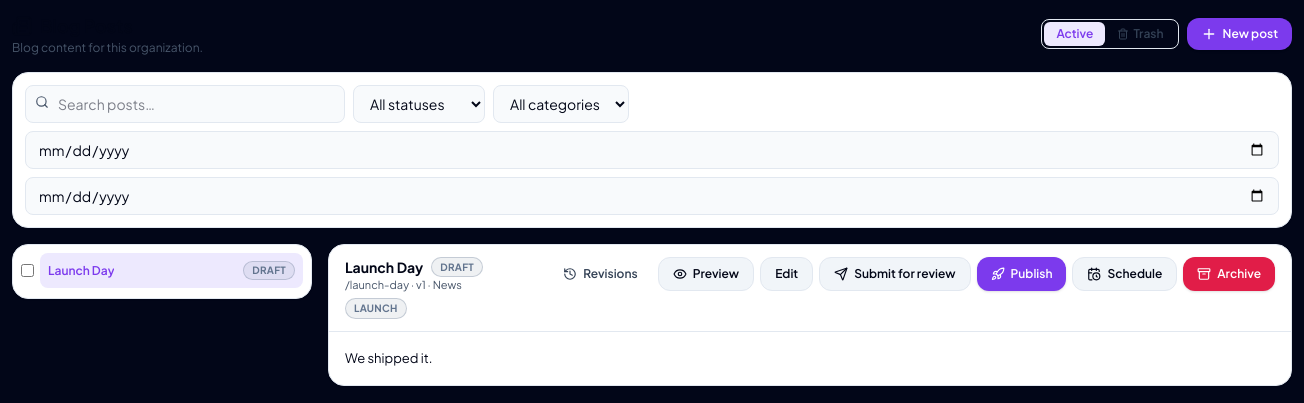
Scenario: PostsPage › Phase 7 — Trash view, bulk actions › switches to the Trash tab, calling the real trash API instead of the active list
The width and height of the screenshot is (1304, 403).
Check: the text "We shipped it." is shown, box top-left (345, 350), bottom-right (432, 366)
Click the button "Trash". click: (1140, 34)
box: top-left (1105, 22), bottom-right (1176, 46)
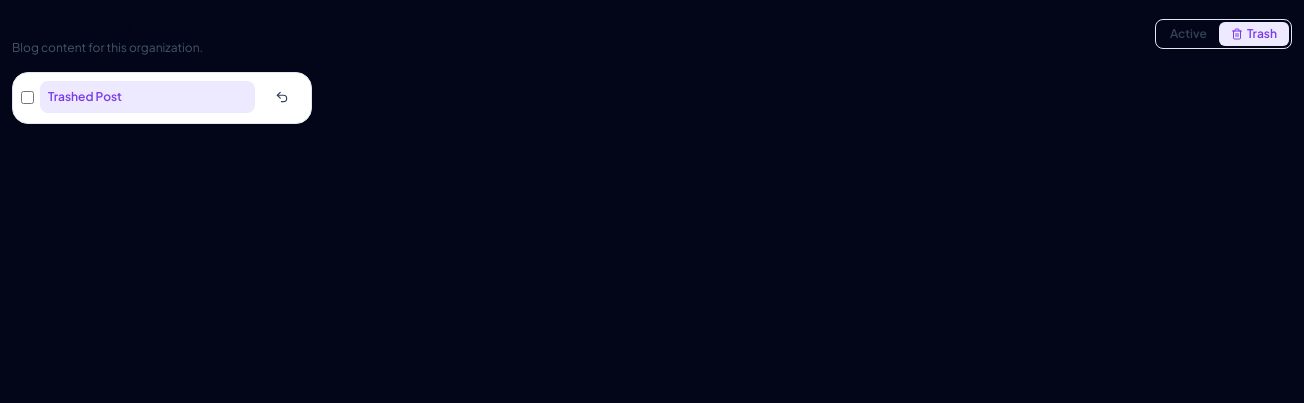
Check: the text "Trashed Post" is shown, box top-left (48, 89), bottom-right (122, 105)
